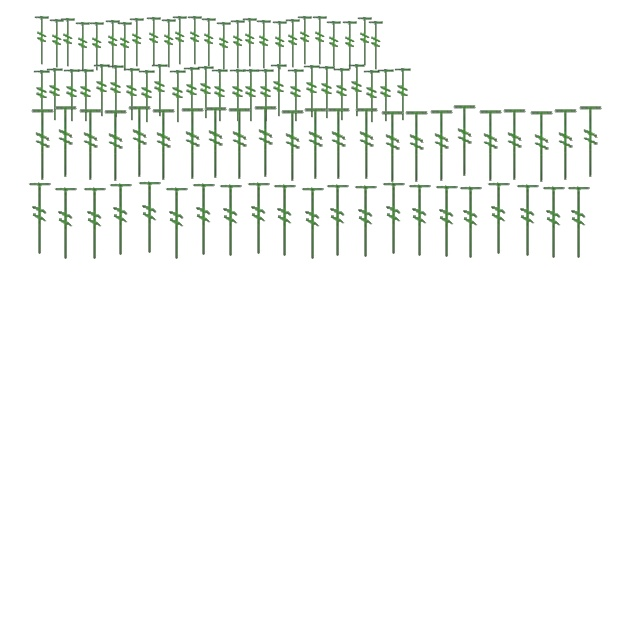fan: (52, 184, 80, 264), (81, 184, 109, 264), (107, 180, 135, 260), (136, 178, 164, 258), (163, 184, 191, 264), (190, 180, 218, 260), (299, 184, 327, 264), (352, 182, 380, 262), (433, 182, 461, 262), (26, 180, 54, 258), (217, 182, 245, 260), (245, 180, 273, 258), (271, 182, 299, 260), (324, 182, 352, 260), (380, 180, 408, 258), (406, 182, 434, 260), (457, 184, 485, 262), (485, 180, 513, 258), (514, 182, 542, 260), (540, 184, 568, 262), (565, 184, 593, 262), (52, 104, 80, 180), (102, 108, 130, 184), (126, 104, 154, 180), (179, 106, 207, 182), (226, 106, 254, 182), (252, 104, 280, 180), (279, 108, 307, 184), (302, 106, 330, 182), (325, 106, 353, 182), (353, 106, 381, 182), (428, 108, 456, 184), (477, 108, 505, 184), (577, 104, 605, 180), (29, 108, 57, 182), (77, 108, 105, 182), (150, 108, 178, 182), (202, 106, 230, 180), (379, 110, 407, 184), (403, 110, 431, 184), (451, 104, 479, 178), (501, 108, 529, 182), (528, 110, 556, 184), (552, 108, 580, 182), (62, 68, 82, 124), (76, 68, 96, 124), (106, 64, 126, 120), (182, 66, 202, 122), (210, 68, 230, 124), (228, 68, 248, 124), (256, 68, 276, 124), (286, 68, 306, 124), (302, 64, 322, 120), (376, 68, 396, 124), (32, 70, 52, 124), (92, 64, 112, 118), (122, 68, 142, 122), (150, 64, 170, 118), (168, 70, 188, 124), (196, 66, 216, 120), (332, 68, 352, 122), (362, 70, 382, 124), (242, 68, 260, 124), (46, 68, 64, 122), (138, 70, 156, 124), (270, 64, 288, 118), (318, 66, 336, 120), (348, 64, 366, 118), (394, 68, 412, 122), (48, 18, 66, 70), (160, 18, 178, 70), (284, 18, 302, 70), (356, 16, 374, 68), (74, 22, 92, 72), (88, 22, 106, 72), (104, 20, 122, 70), (116, 22, 134, 72), (128, 18, 146, 68), (186, 16, 204, 66), (200, 18, 218, 68), (296, 16, 314, 66), (146, 16, 162, 68), (272, 20, 288, 72), (326, 20, 342, 72), (342, 20, 358, 72), (368, 20, 384, 72), (34, 16, 50, 66), (60, 18, 76, 68), (172, 16, 188, 66), (216, 22, 232, 72), (230, 20, 246, 70), (242, 18, 258, 68), (256, 20, 272, 70), (312, 16, 328, 66)
